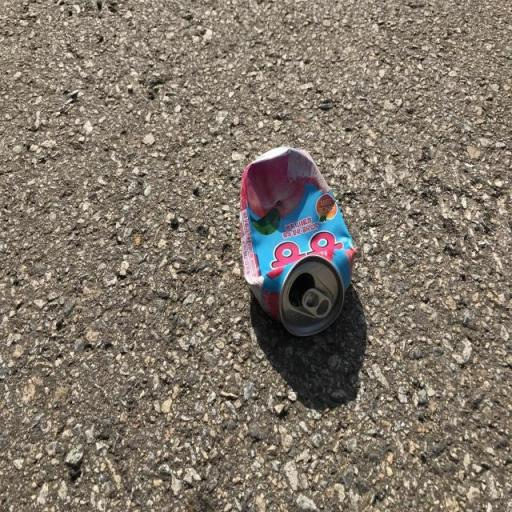metal: (224, 118, 374, 366)
